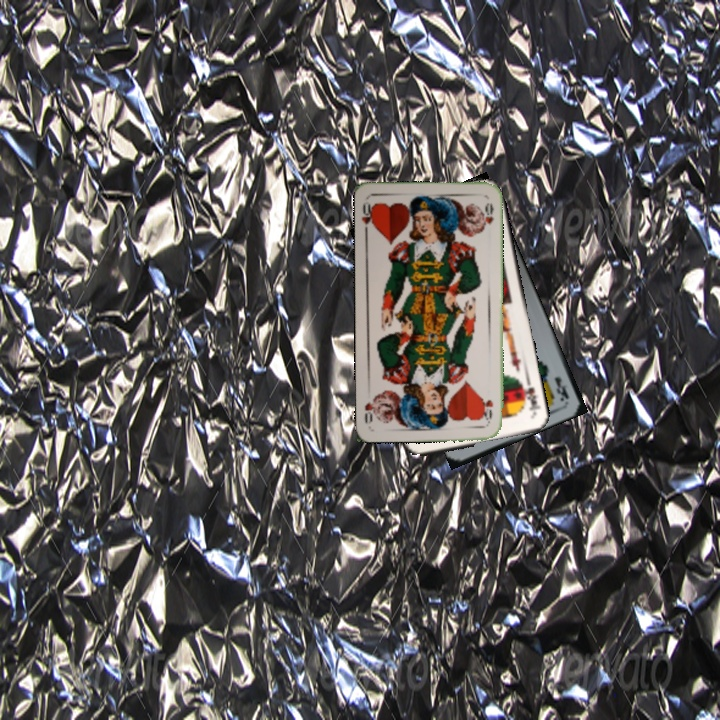EK: (550, 373, 571, 403)
HO: (358, 197, 377, 237), (479, 394, 496, 425)
SK: (517, 377, 543, 418)
